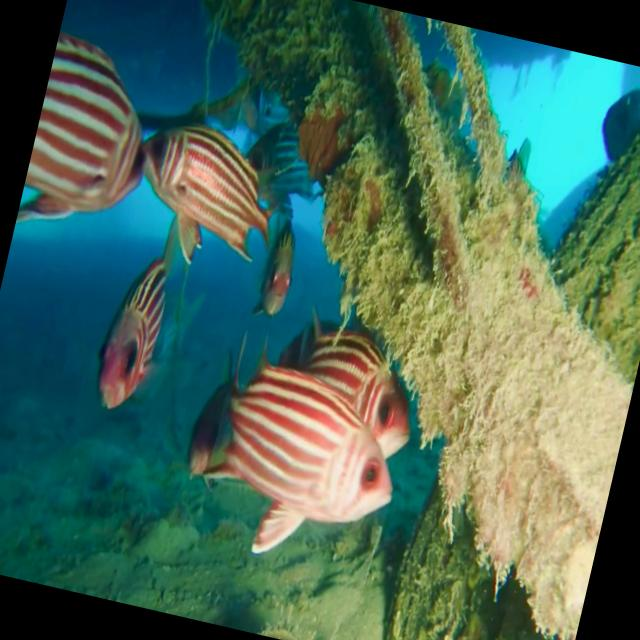Asker Baligi: (167, 312, 424, 580), (113, 80, 286, 280)
